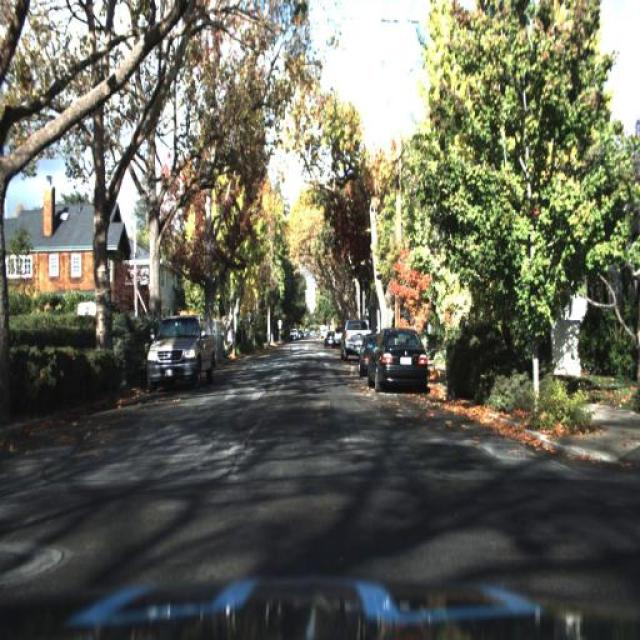car: (147, 310, 214, 390), (365, 319, 431, 385), (338, 312, 374, 362), (343, 323, 362, 365), (358, 336, 373, 384), (325, 330, 336, 350)
